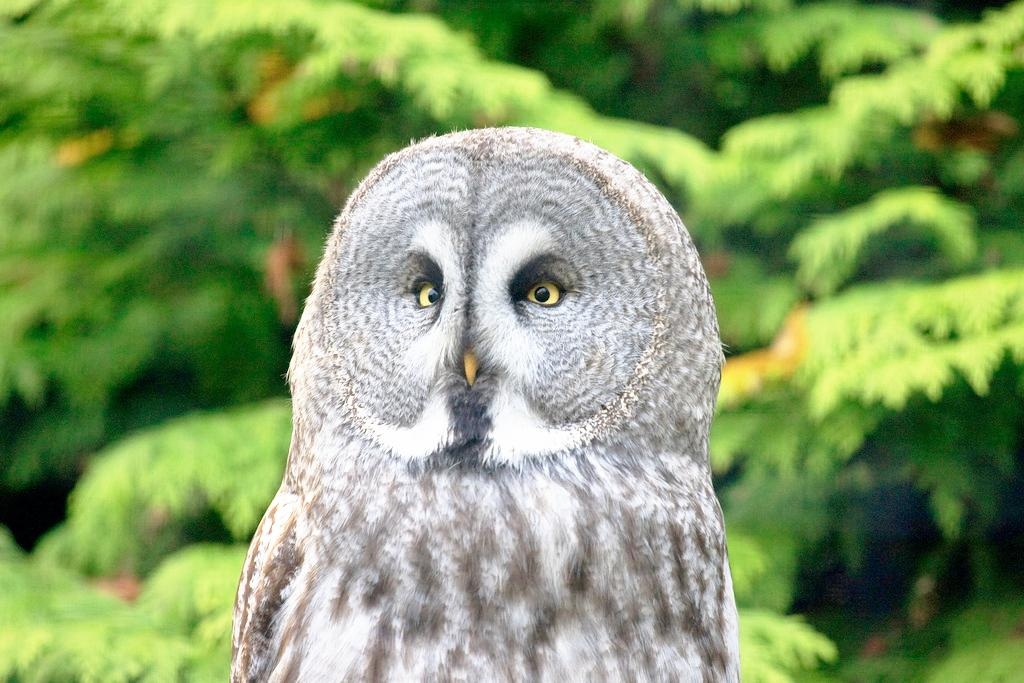Owl: (228, 123, 740, 682)
